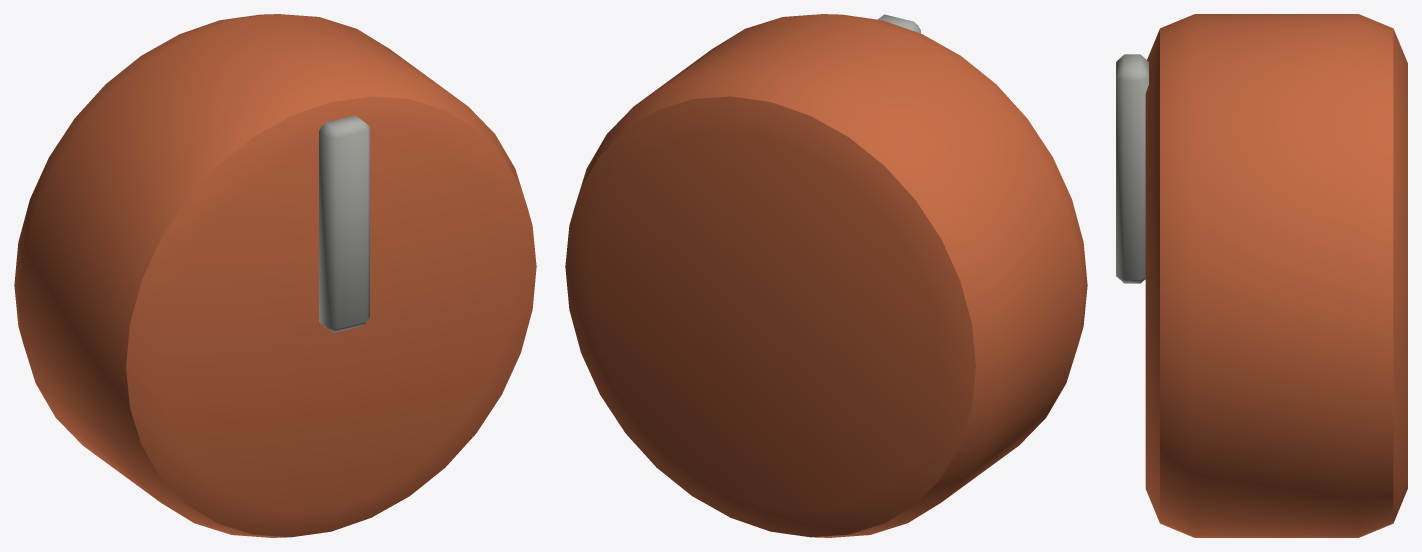
Rendered from welding_carriage_speed_knob.glb.
3 views of the same model, side by side, from view 1: azimuth 30°, elevation 25°; view 2: azimuth 150°, elevation 25°; view 3: azimuth 270°, elevation 25° (orthographic). The views are drawn at different scales.
Visible parts, largest first — view 1: welding_carriage_speed_knob; view 2: welding_carriage_speed_knob; view 3: welding_carriage_speed_knob.
Boxes of the visible parts, box(x1,y1,x2,y2) form: welding_carriage_speed_knob: box(14, 14, 536, 537); welding_carriage_speed_knob: box(565, 14, 1087, 537); welding_carriage_speed_knob: box(1116, 14, 1407, 537).
Size of the model in its own units: 0.032 by 0.032 by 0.0178.
